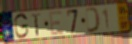1: (102, 7, 110, 30)
7: (66, 8, 79, 36)
D: (84, 6, 101, 33)
E: (48, 10, 65, 37)
G: (13, 13, 30, 40)
T: (30, 13, 42, 37)
